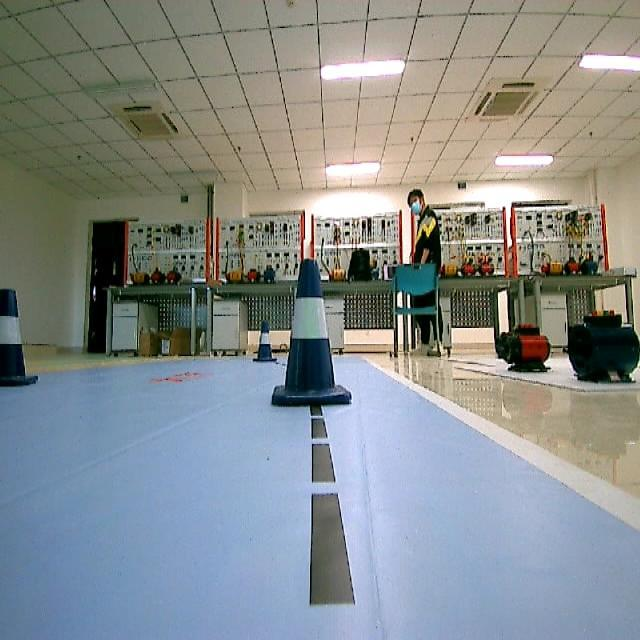obstacle: (269, 256, 357, 416), (0, 290, 50, 390), (252, 320, 278, 366)
